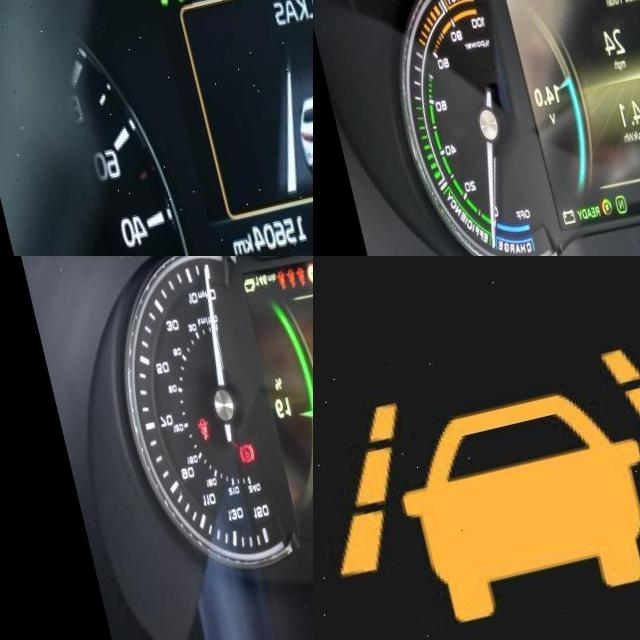Seat Belt: (178, 424, 196, 448), (264, 281, 277, 304), (275, 282, 286, 301), (286, 279, 296, 298)
